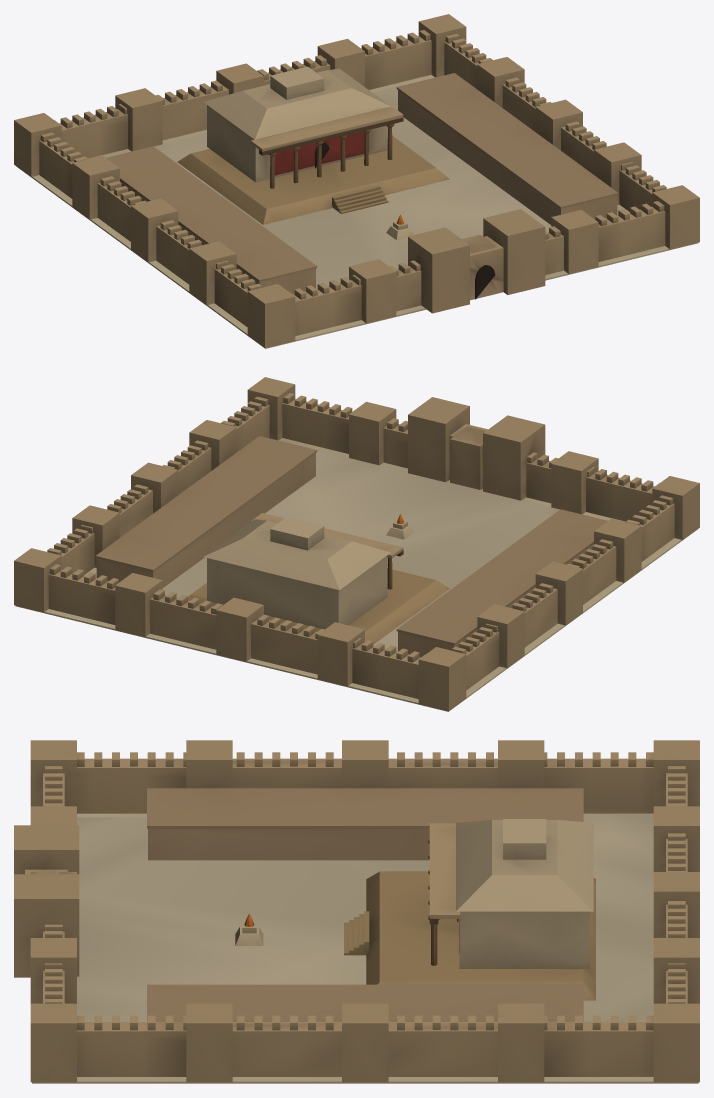
The model's file is sogdian-temple.glb.
3 views of the same model, one above another, from view 1: azimuth 30°, elevation 25°; view 2: azimuth 150°, elevation 25°; view 3: azimuth 270°, elevation 25° (orthographic). The views are drawn at different scales.
Visible parts, largest first — view 1: p0_walls, p1_sanctuary; view 2: p0_walls, p1_sanctuary; view 3: p0_walls, p1_sanctuary.
Boxes of the visible parts, bbox=[...] form: p0_walls: bbox=[14, 14, 699, 348]; p1_sanctuary: bbox=[106, 66, 618, 294]; p0_walls: bbox=[14, 377, 699, 711]; p1_sanctuary: bbox=[95, 436, 607, 657]; p0_walls: bbox=[14, 740, 699, 1083]; p1_sanctuary: bbox=[147, 788, 595, 1021].
Bounding box in the file's own units: 92.4 × 17 × 94.7.
